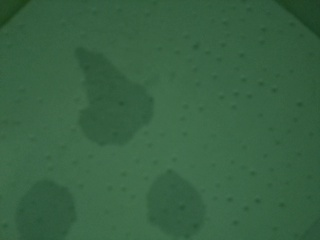Water_detected: (78, 61, 150, 132), (25, 189, 65, 236), (149, 178, 188, 220)
